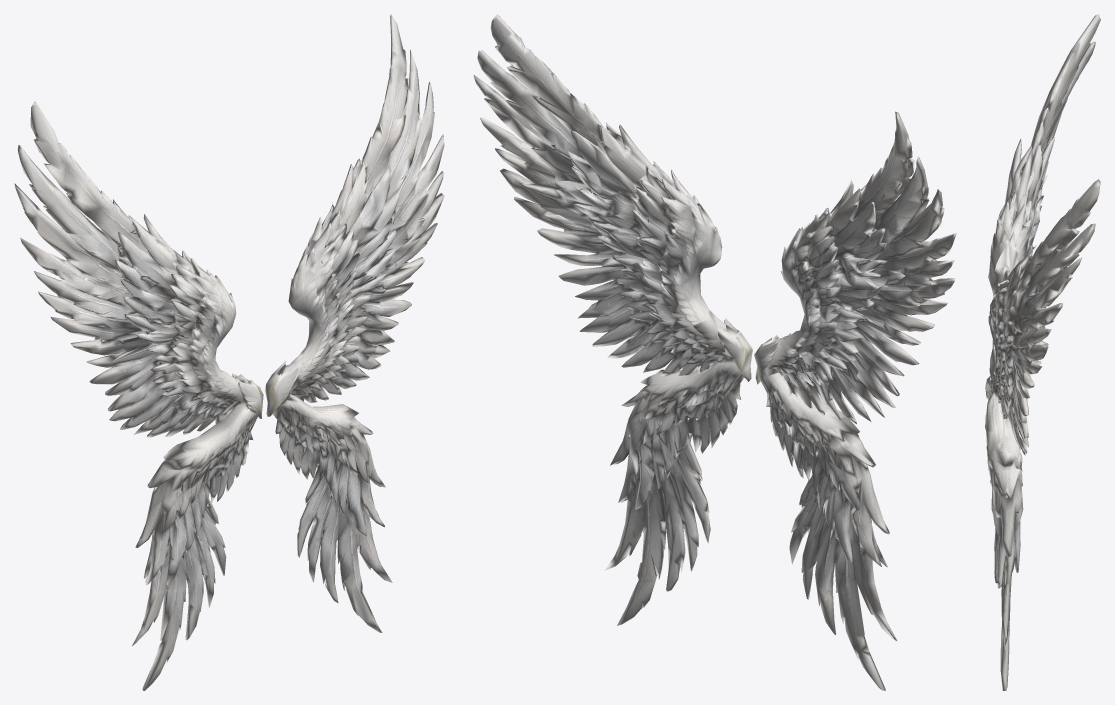
The model's file is seraphWings.glb.
3 renders of one model, left to right at view 1: azimuth 30°, elevation 25°; view 2: azimuth 150°, elevation 25°; view 3: azimuth 270°, elevation 25°, orthographic. The views are drawn at different scales.
Bounding box in the file's own units: 1.49 × 1.9 × 0.3704.
1 material, 1 textured.
